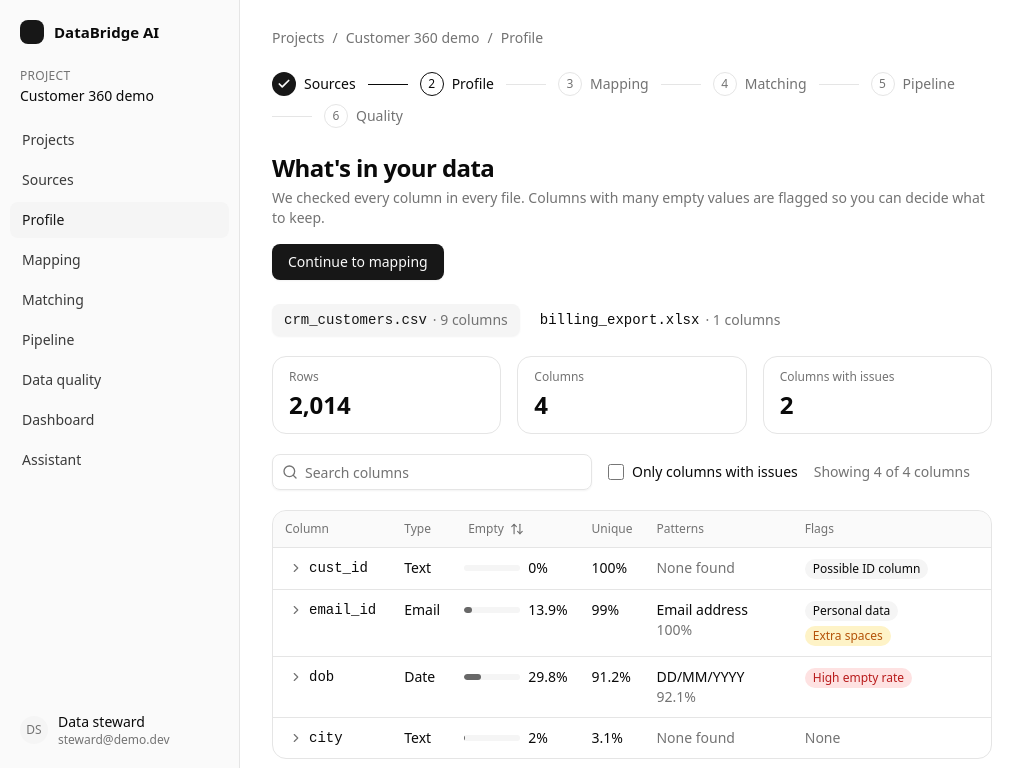
profile page › switches between files with the picker
Click the button "billing_export.xlsx · 1 columns" at (660, 320), box [528,304,792,336]
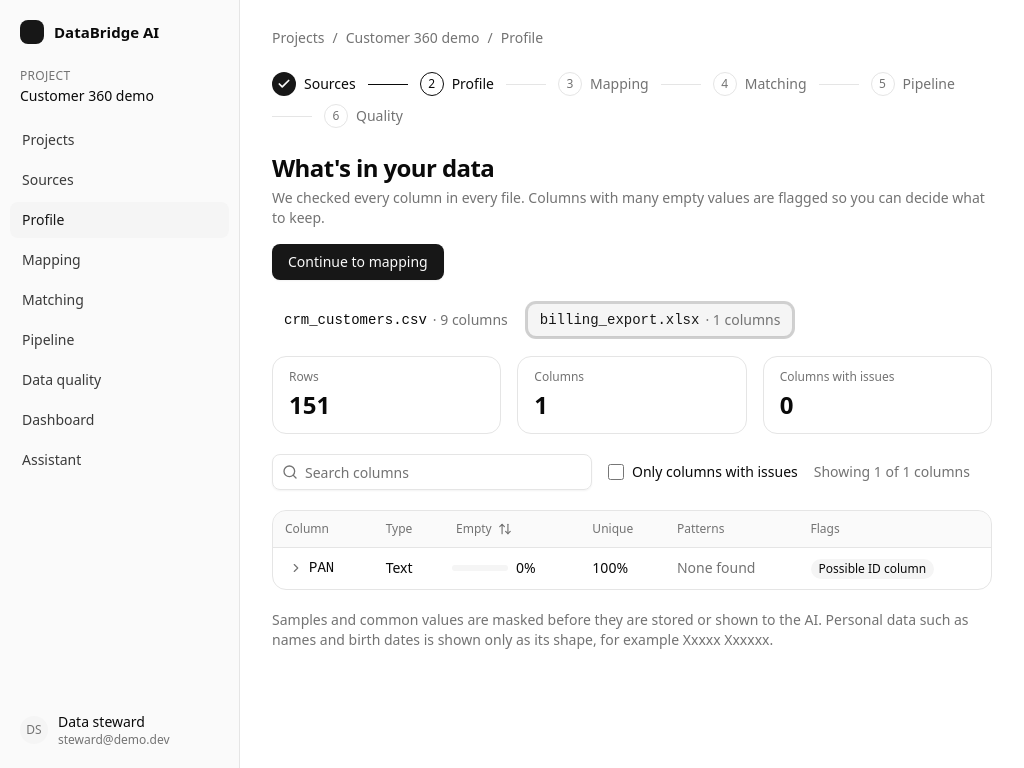
Result: the button with aria-label "PAN, details" is shown at [279,554,344,582]
Result: the text "151" is shown at [289,388,330,421]
